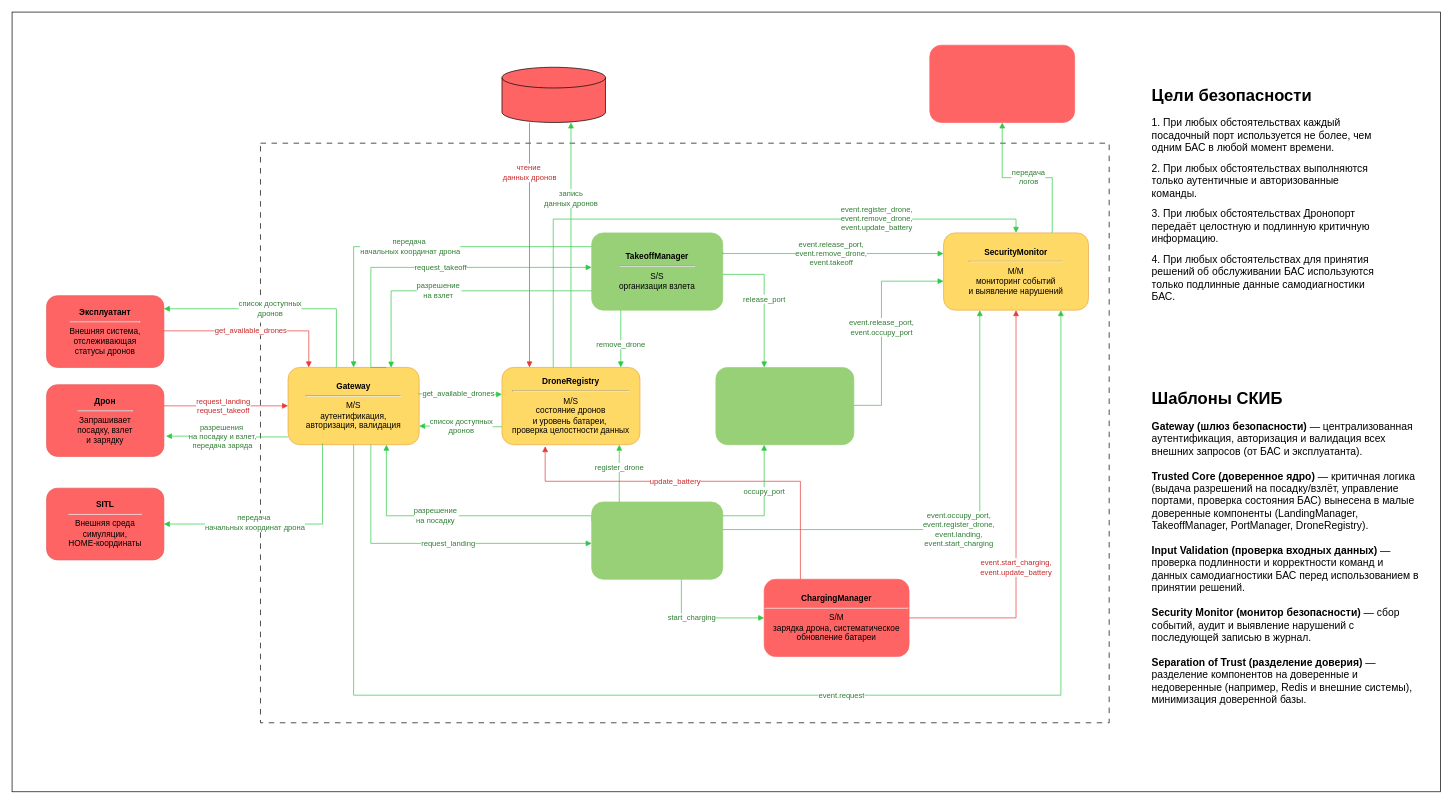
The diagram is 1452 pixels wide and 804 high, and some of its shapes have lost their labels. Here are the shapes that lost their labels. From the top down, the box of each, then its label:
(501, 67, 605, 122): Redis
(929, 45, 1075, 122): Инфопанель общесистемный журнал, мониторинг событий
(715, 367, 854, 445): PortManager S/S резервирование и освобождение слотов
(591, 501, 723, 579): LandingManager S/S организация посадки
